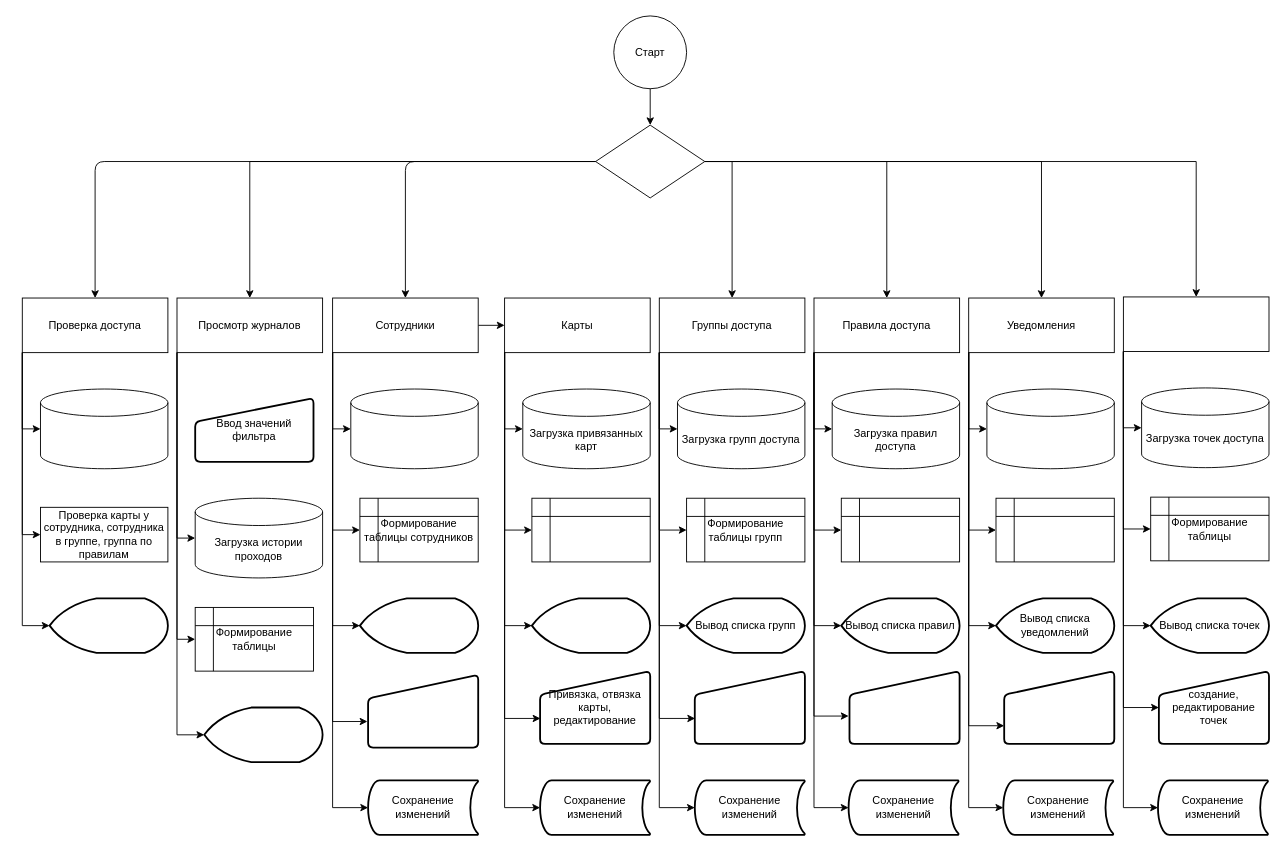
This 1286x852 diagram has some shape labels left out. The shapes that lost their labels are listed below. From the top down, each one's centre as x and y in pixels, then its label:
the point at 650,161: Авторизация
the point at 1195,324: Точки доступа
the point at 104,428: Загрузка данных карты, сотрудника, групп, правил
the point at 414,428: Загрузка сотрудников
the point at 1050,428: Загрузка уведомлений
the point at 590,529: Формирование таблицы карт
the point at 900,529: Формирование таблицы правил
the point at 1054,529: Формирование списка уведомлений
the point at 108,625: Вывод результата проверки
the point at 419,625: Вывод списка сотрудников
the point at 591,625: Вывод списка карт
the point at 423,710: Создание редактирование данных
the point at 749,707: Создание, редактирование групп, списка сотрудников
the point at 904,707: Создание, редактирование правил, добавление групп
the point at 1059,707: Создание уведомлений
the point at 263,734: Вывод истории проходов
